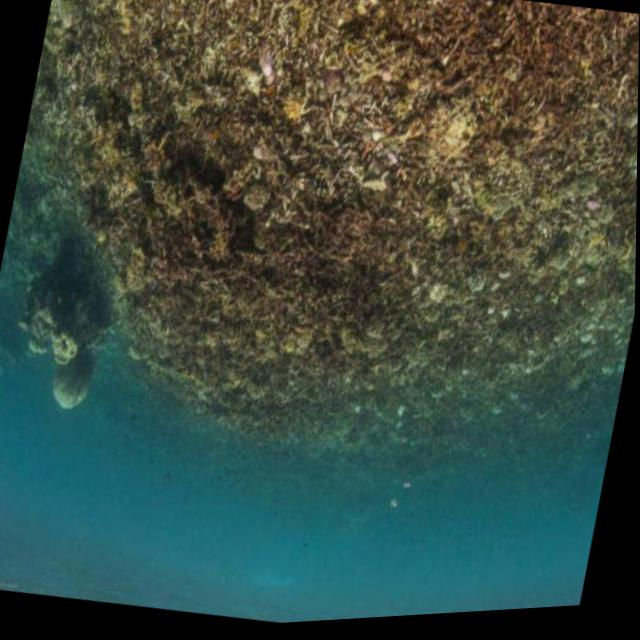Dead Coral: (21, 0, 640, 486)
